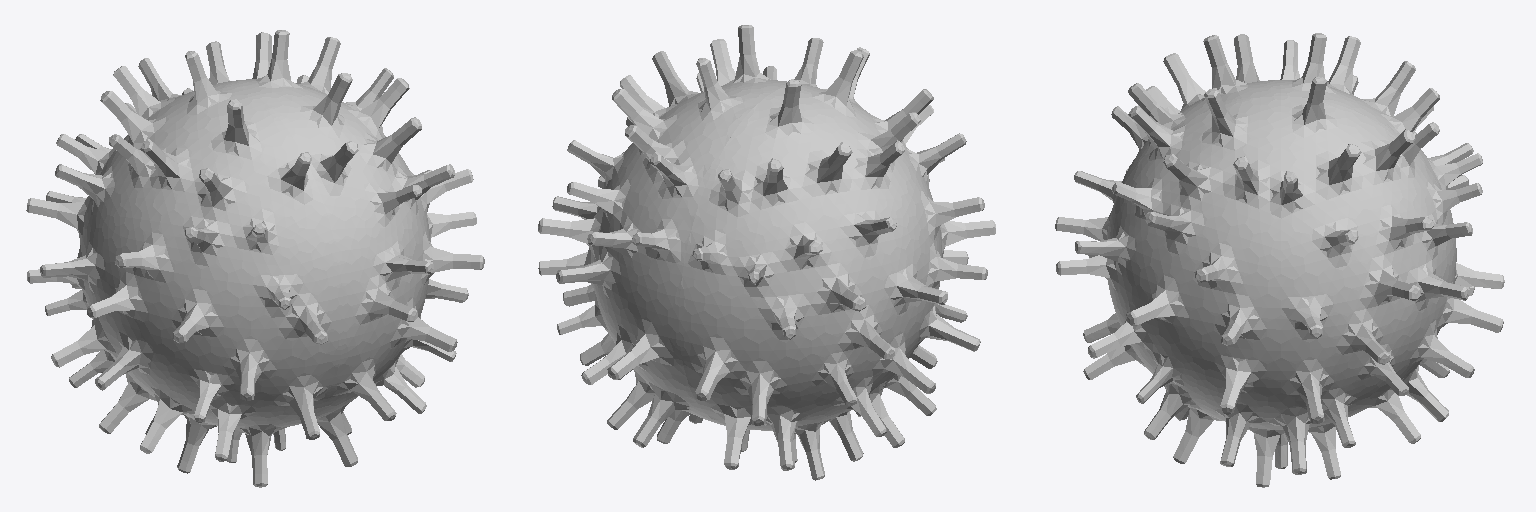
The model's file is virusCenter.obj.
3 renders of one model, left to right at view 1: azimuth 30°, elevation 25°; view 2: azimuth 150°, elevation 25°; view 3: azimuth 270°, elevation 25°, orthographic.
Parts seen in each view (by area): view 1: virus; view 2: virus; view 3: virus.
Part boxes in pixels (bbox=[...]): virus: bbox=[26, 30, 484, 487]; virus: bbox=[538, 25, 995, 480]; virus: bbox=[1055, 33, 1504, 487].
Bounding box in the file's own units: 2 × 1.95 × 1.98.